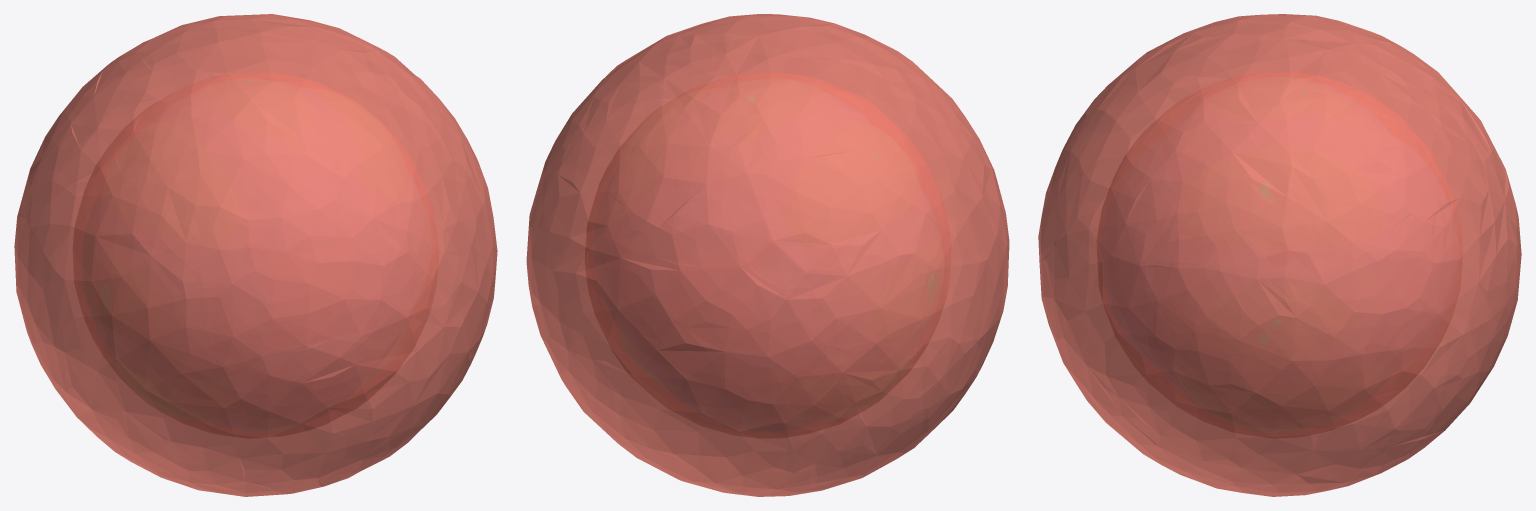
File: orbital.glb
The picture shows the model from 3 angles, left to right: view 1: azimuth 30°, elevation 25°; view 2: azimuth 150°, elevation 25°; view 3: azimuth 270°, elevation 25°; orthographic projection.
Visible parts, largest first — view 1: Ti_n4_s_ml0_node, Ti_n3_s_ml0_node; view 2: Ti_n4_s_ml0_node, Ti_n3_s_ml0_node; view 3: Ti_n4_s_ml0_node, Ti_n3_s_ml0_node.
Boxes of the visible parts, box(x1,y1,x2,y2) form: Ti_n4_s_ml0_node: box(14, 14, 497, 496); Ti_n3_s_ml0_node: box(73, 72, 438, 438); Ti_n4_s_ml0_node: box(526, 14, 1009, 496); Ti_n3_s_ml0_node: box(585, 72, 950, 438); Ti_n4_s_ml0_node: box(1038, 14, 1521, 496); Ti_n3_s_ml0_node: box(1096, 72, 1462, 438).
Bounding box in the file's own units: 2.06 × 2.07 × 2.06.
